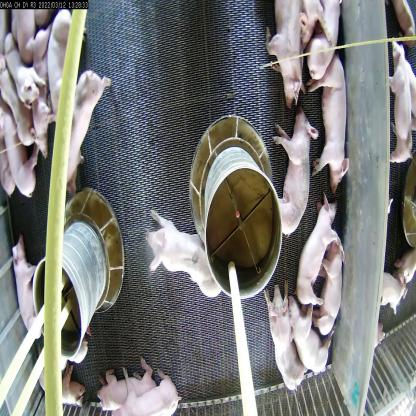Pig: (269, 105, 330, 244), (52, 69, 118, 188), (148, 205, 219, 298), (315, 57, 358, 194), (259, 284, 304, 401), (302, 194, 342, 312), (273, 0, 315, 110), (306, 229, 349, 334), (12, 223, 51, 338), (293, 293, 340, 382), (0, 72, 43, 160), (39, 15, 74, 116), (310, 5, 346, 82), (96, 359, 146, 405), (4, 31, 37, 98), (115, 385, 184, 415)
